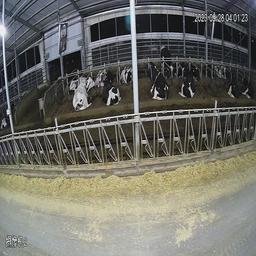cow: (141, 57, 173, 110), (70, 75, 99, 119), (99, 63, 121, 112), (178, 63, 200, 107), (157, 41, 179, 82), (119, 55, 134, 86), (229, 70, 241, 107), (206, 61, 230, 78), (242, 73, 254, 104)
